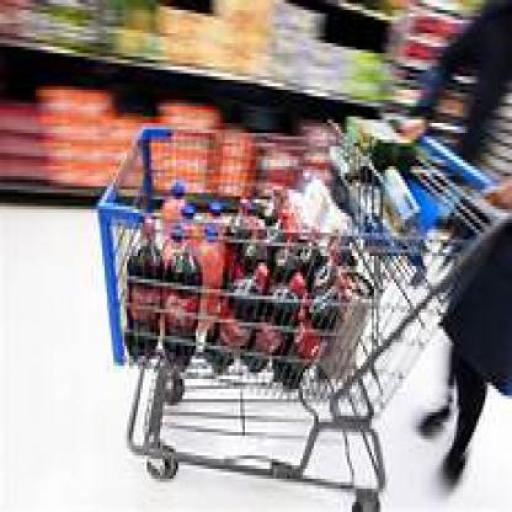shopping_cart: (96, 125, 509, 512)
